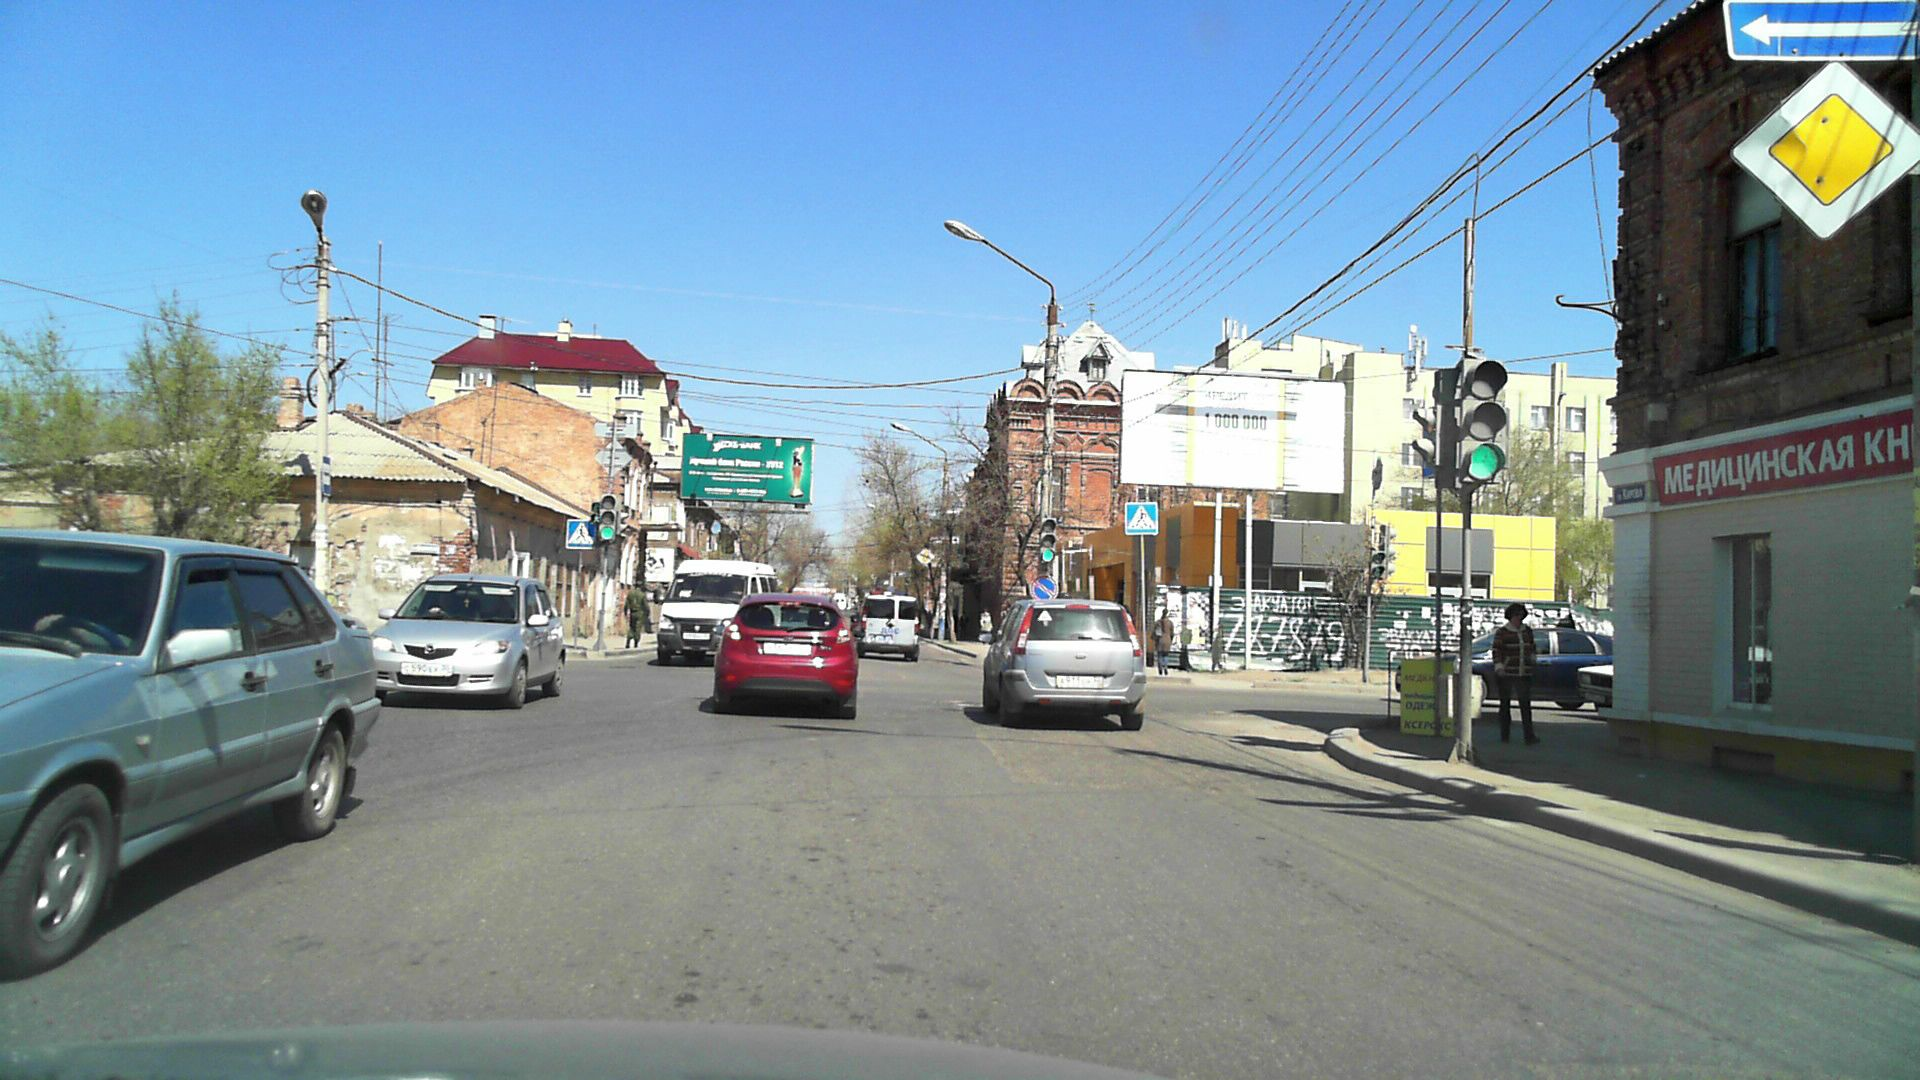One-Way Traffic: (1725, 1, 1920, 59)
Pedestrian Crossing: (1125, 502, 1156, 534)
